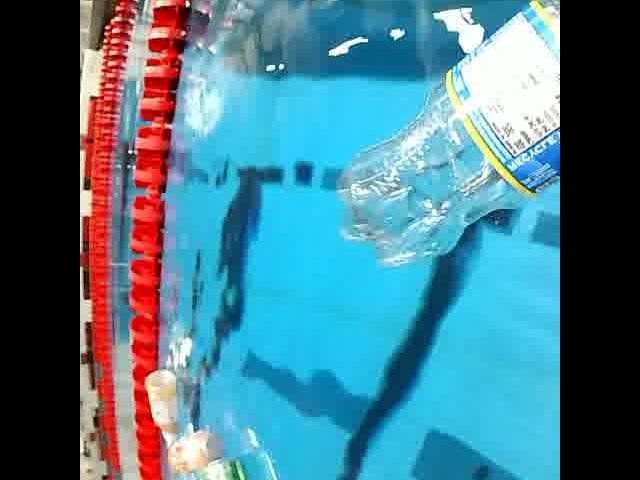Bottle: (331, 0, 560, 274), (142, 363, 182, 447), (165, 425, 231, 474)
Can: (203, 446, 265, 480)
